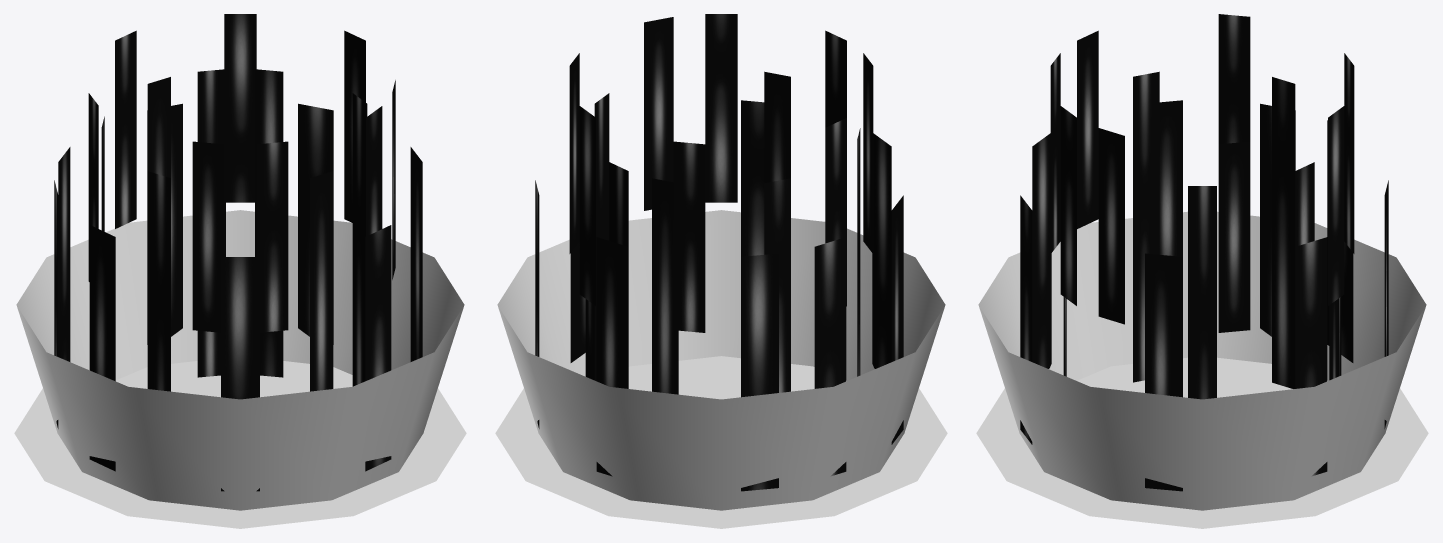
File: TeleporterArea.fbx
3 views of the same model, side by side, from view 1: azimuth 30°, elevation 25°; view 2: azimuth 150°, elevation 25°; view 3: azimuth 270°, elevation 25° (orthographic).
Parts seen in each view (by area): view 1: LightFlares, Cylinder, Sparks, Teleporter; view 2: LightFlares, Cylinder, Sparks, Teleporter; view 3: LightFlares, Cylinder, Sparks, Teleporter.
Boxes of the visible parts, x1=… form: LightFlares: x1=54, y1=14, x2=422, y2=491; Cylinder: x1=16, y1=210, x2=464, y2=510; Sparks: x1=18, y1=211, x2=463, y2=509; Teleporter: x1=14, y1=361, x2=466, y2=528; LightFlares: x1=535, y1=14, x2=903, y2=491; Cylinder: x1=497, y1=210, x2=945, y2=510; Sparks: x1=498, y1=210, x2=943, y2=510; Teleporter: x1=495, y1=356, x2=947, y2=528; LightFlares: x1=1020, y1=14, x2=1388, y2=491; Cylinder: x1=978, y1=211, x2=1426, y2=510; Sparks: x1=979, y1=212, x2=1426, y2=509; Teleporter: x1=976, y1=357, x2=1428, y2=528.
Size of the model in its own units: 0.8298 by 0.7166 by 0.8298.
